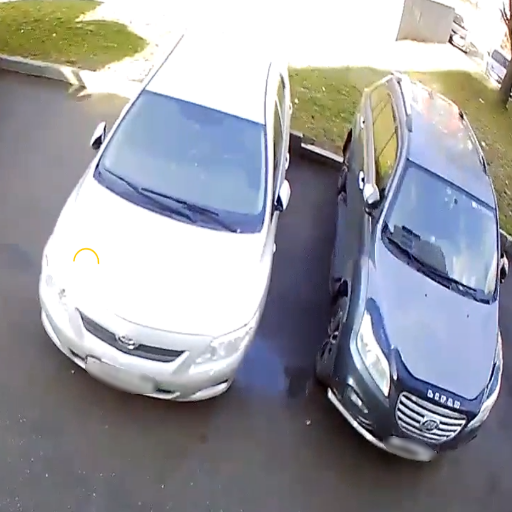Car: (36, 27, 296, 403), (312, 71, 505, 466)
